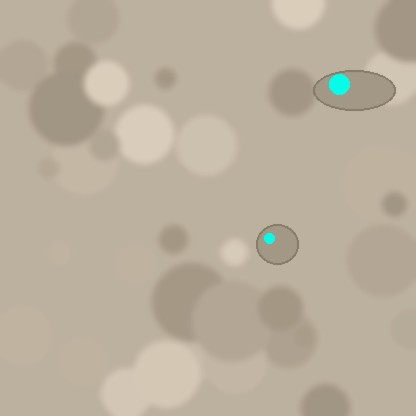gota: (313, 72, 395, 114), (256, 226, 298, 268)
